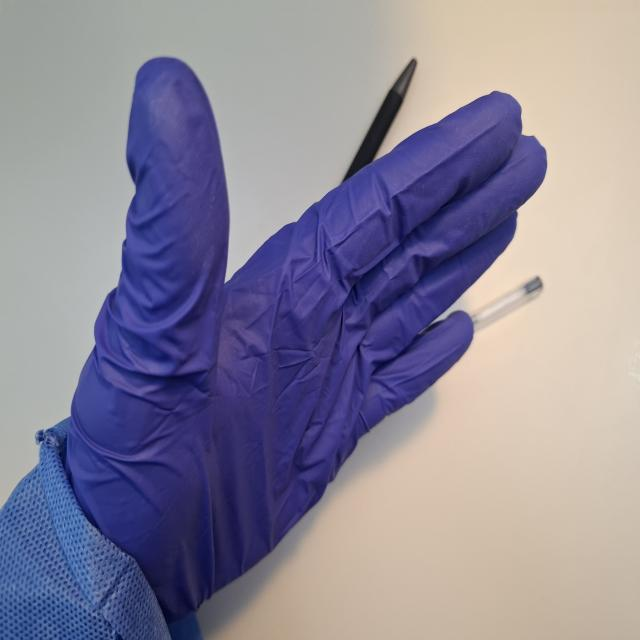glove_on: (62, 52, 551, 630)
